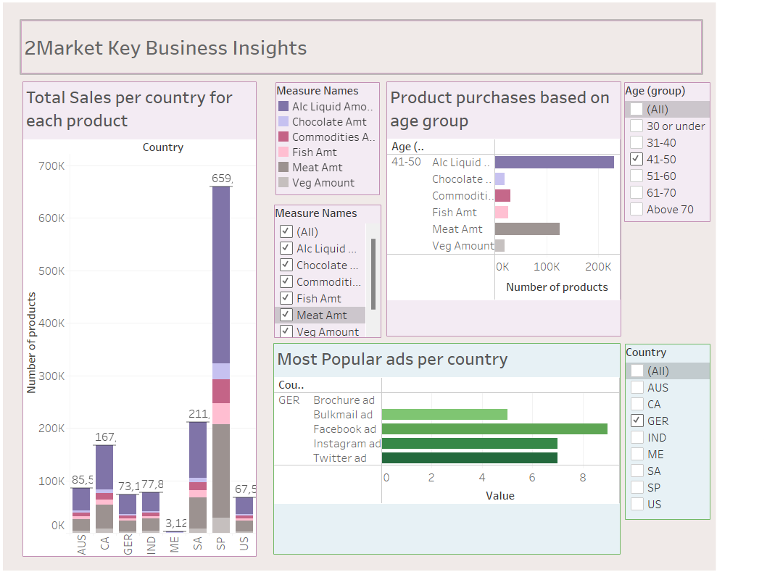

Layout of this report page (visuals, bound fields, positions):
{"tool":"tableau","page":{"name":"Dashboard 1","canvas":[1000,800],"ordinal":0},"visuals":[{"type":"text","box":[33,33,939,73]},{"type":"worksheet","title":"Sheet 3","mark":"Automatic","cols":["Country"],"box":[35,117,323,656]},{"type":"worksheet","title":"Sheet 1","mark":"Automatic","box":[537,117,324,352]},{"type":"legend","title":"Sheet 3","param":"[federated.0w3p7x91wo2bjg185cmmh1gq9nij (copy)].[:Measure Names]","box":[384,118,144,156]},{"type":"filter","title":"Sheet 1","param":"[federated.0w3p7x91wo2bjg185cmmh1gq9nij].[Age (group)]","box":[865,118,119,193]},{"type":"filter","title":"Sheet 3","param":"[federated.0w3p7x91wo2bjg185cmmh1gq9nij (copy)].[:Measure Names]","box":[382,287,148,184]},{"type":"worksheet","title":"Sheet 5","mark":"Automatic","rows":["Country"],"box":[381,478,479,292]},{"type":"filter","title":"Sheet 5","param":"[federated.0w3p7x91wo2bjg185cmmh1gq9nij].[none:Country:nk]","box":[866,479,118,243]}]}

Visuals, with their boxes on the page's 1000x800 design canvas (x1, y1, x2, y2). These are canvas units, not pixel positions in the 768x572 screenshot, which may show the page scaled, cropped or inside an application window:
text: {"left": 33, "top": 33, "right": 972, "bottom": 106}
"Sheet 3" worksheet: {"left": 35, "top": 117, "right": 358, "bottom": 773}
"Sheet 1" worksheet: {"left": 537, "top": 117, "right": 861, "bottom": 469}
"Sheet 3" legend: {"left": 384, "top": 118, "right": 528, "bottom": 274}
"Sheet 1" filter: {"left": 865, "top": 118, "right": 984, "bottom": 311}
"Sheet 3" filter: {"left": 382, "top": 287, "right": 530, "bottom": 471}
"Sheet 5" worksheet: {"left": 381, "top": 478, "right": 860, "bottom": 770}
"Sheet 5" filter: {"left": 866, "top": 479, "right": 984, "bottom": 722}
